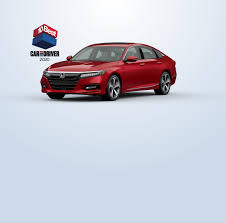car: (39, 41, 190, 116)
